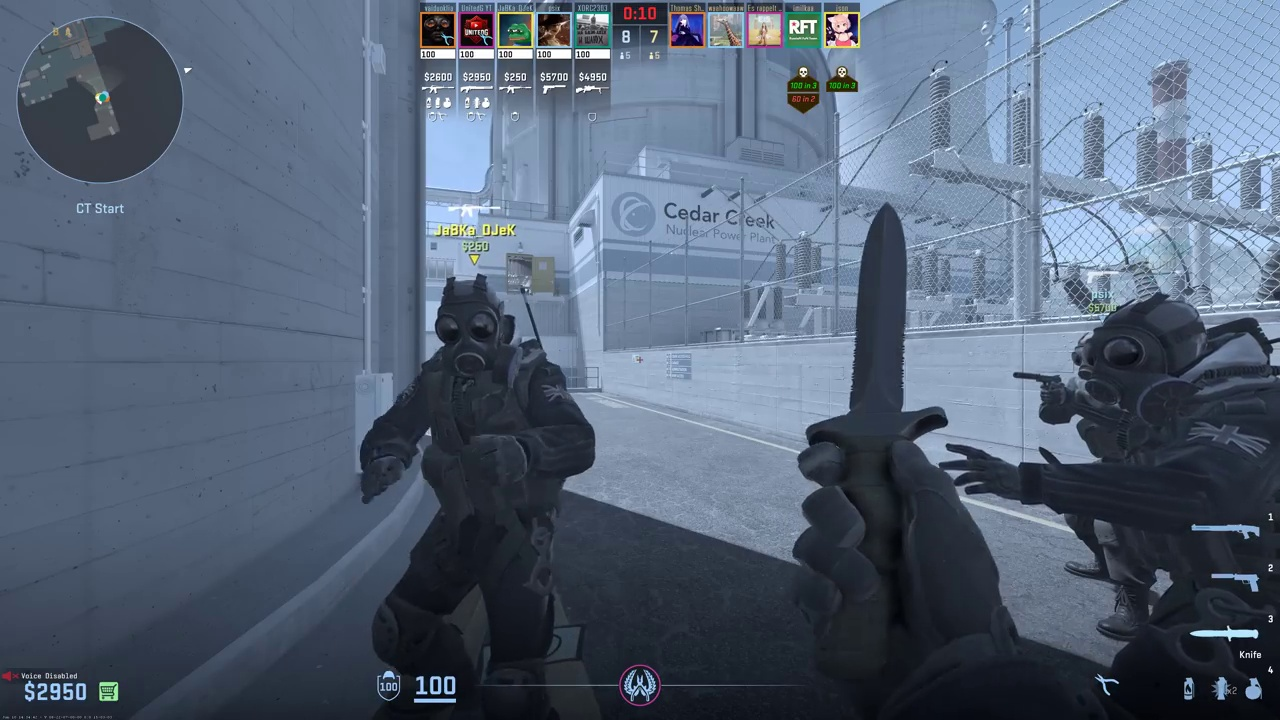CT: (1078, 295, 1280, 720), (381, 281, 564, 705)
